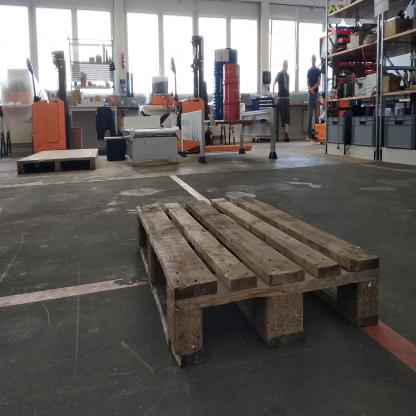BoxFace: (133, 187, 380, 375), (15, 143, 101, 179)
